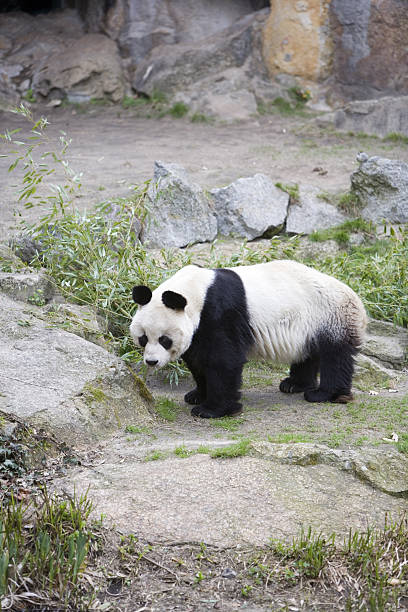panda: (111, 267, 215, 408)
